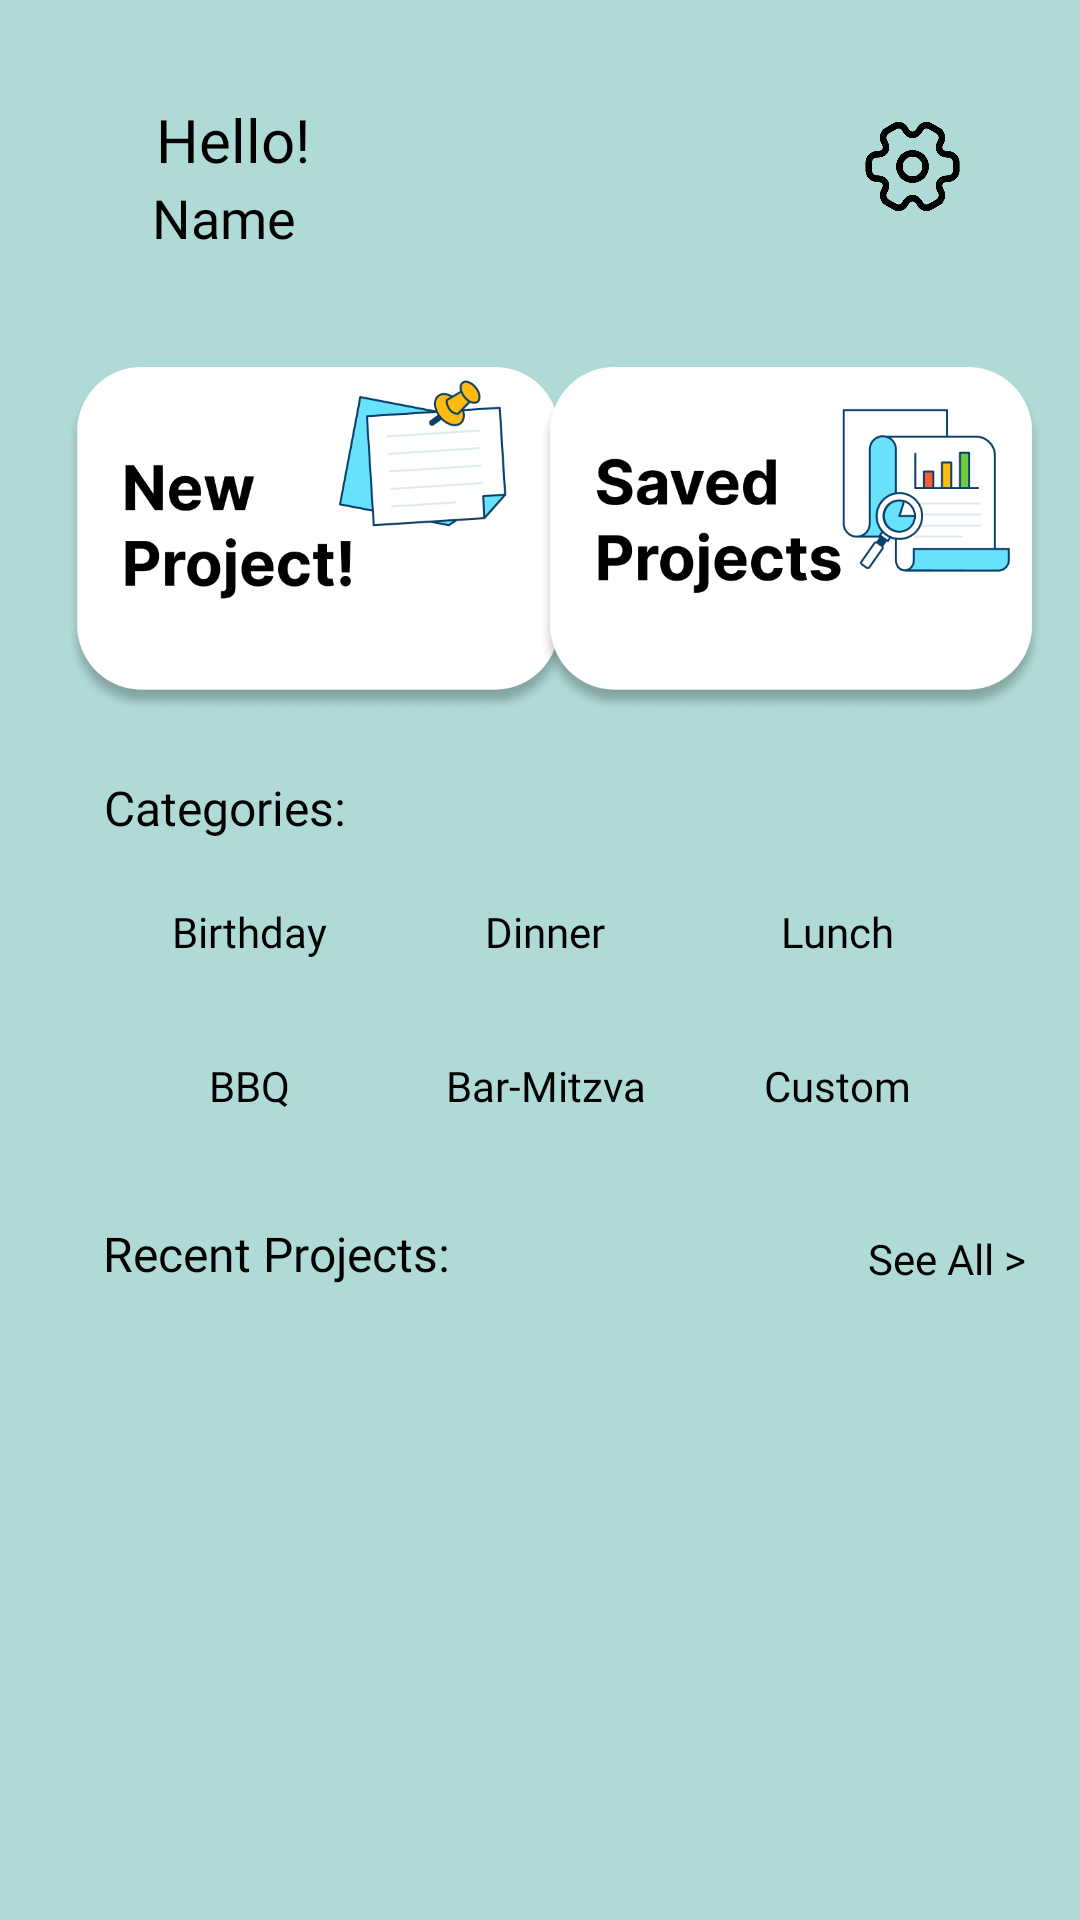

Icon bounding boxes for this 1080×1920 phone screenshot, format (x1, y1, x2, y2):
settings: (865, 122, 960, 211)
